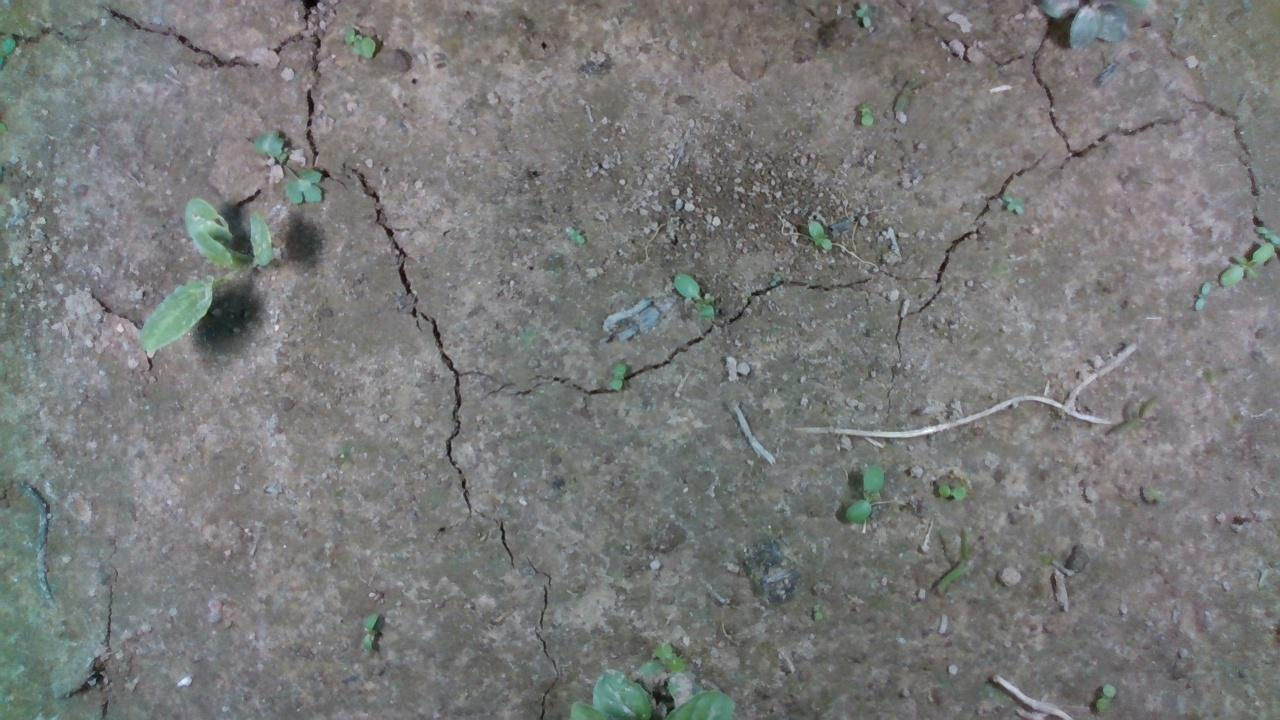weed: (664, 271, 722, 323), (801, 213, 848, 261), (855, 459, 889, 515), (855, 103, 897, 140), (358, 611, 394, 654), (601, 358, 634, 389)
